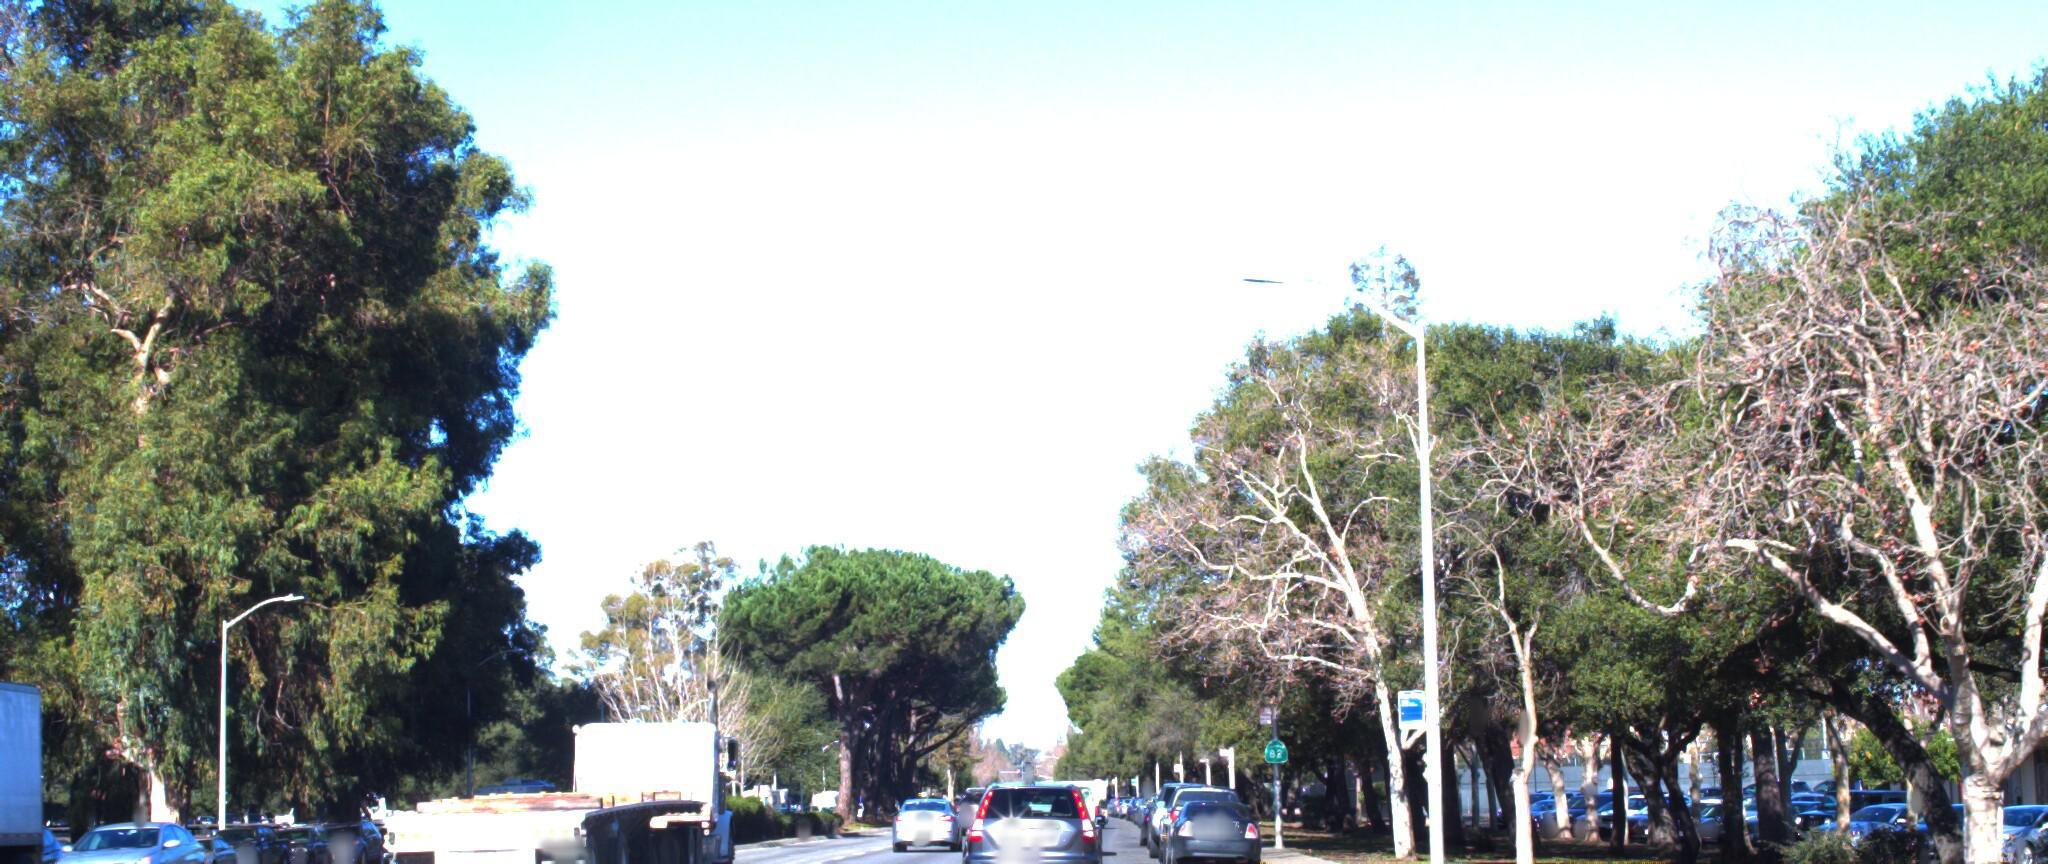car: (950, 758, 1113, 864), (27, 797, 218, 864), (1149, 777, 1258, 856), (871, 778, 953, 852), (0, 794, 56, 864)
truck: (370, 626, 761, 864), (0, 642, 71, 864)
